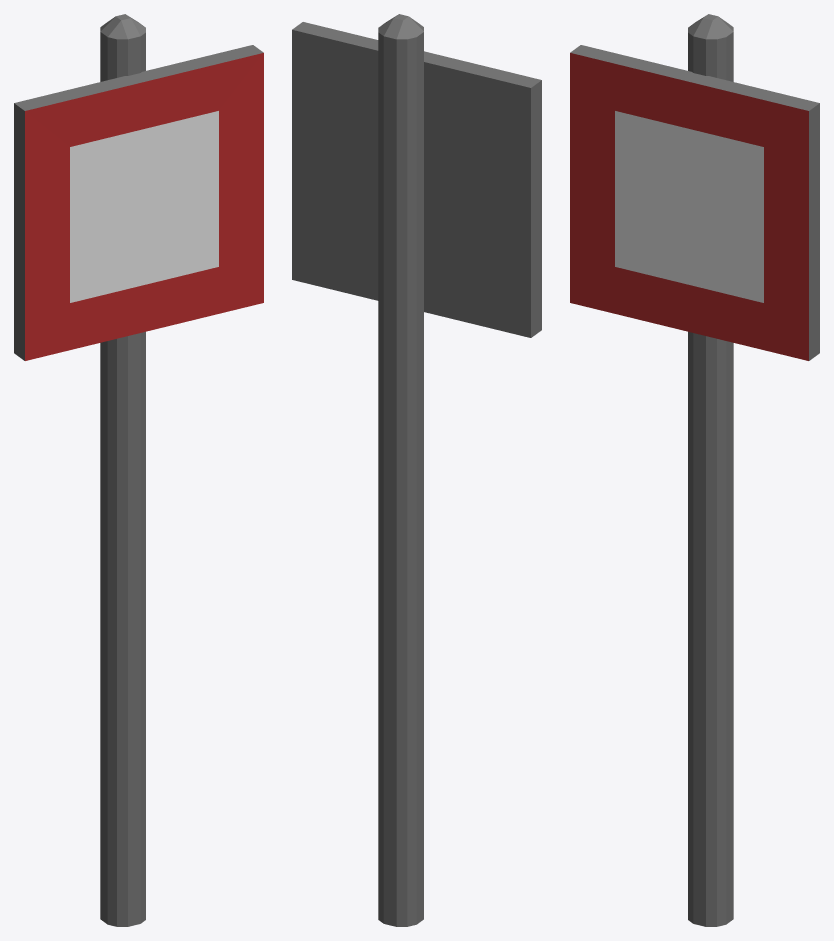
The model's file is Sign.fbx.
3 views of the same model, side by side, from view 1: azimuth 30°, elevation 25°; view 2: azimuth 150°, elevation 25°; view 3: azimuth 330°, elevation 25° (orthographic).
Parts seen in each view (by area): view 1: Sign; view 2: Sign; view 3: Sign.
Part boxes in pixels (<box>): Sign: <box>14,14,263,926</box>; Sign: <box>292,14,541,926</box>; Sign: <box>570,14,819,926</box>.
Bounding box in the file's own units: 318 × 1144 × 74.32.
